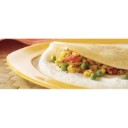dosa: (41, 41, 128, 89)
